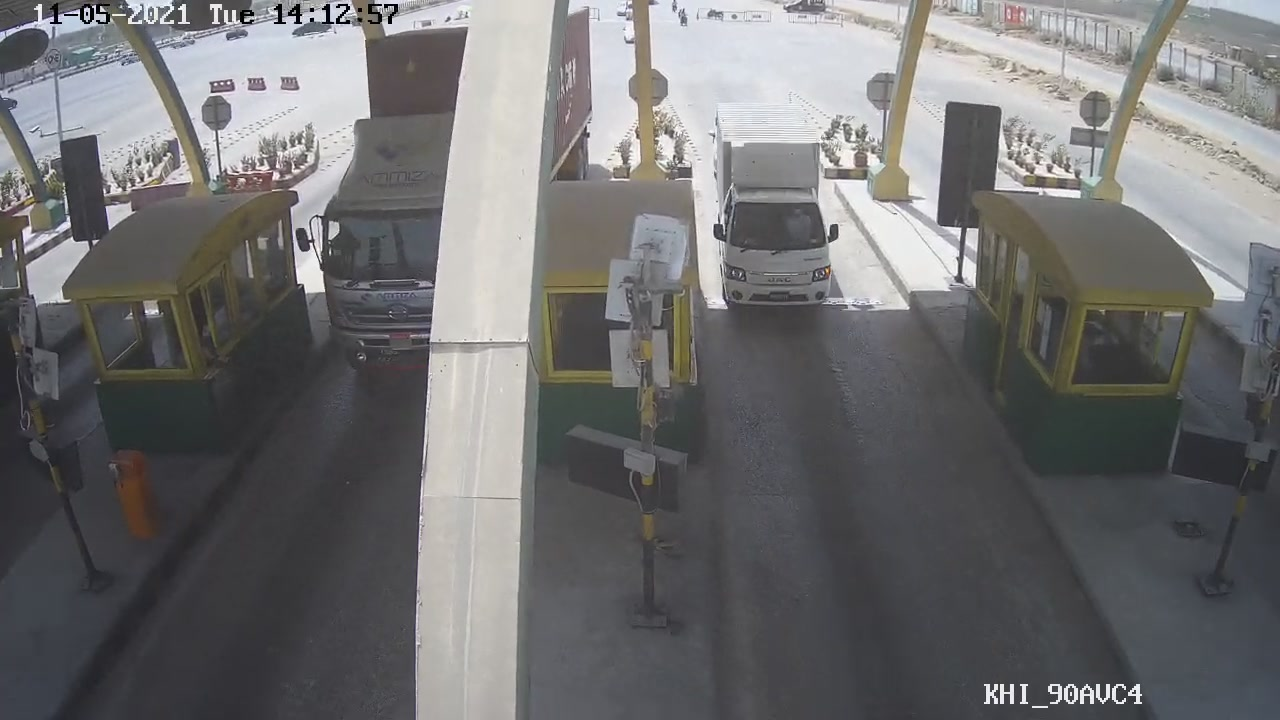F2: (702, 103, 858, 330)
